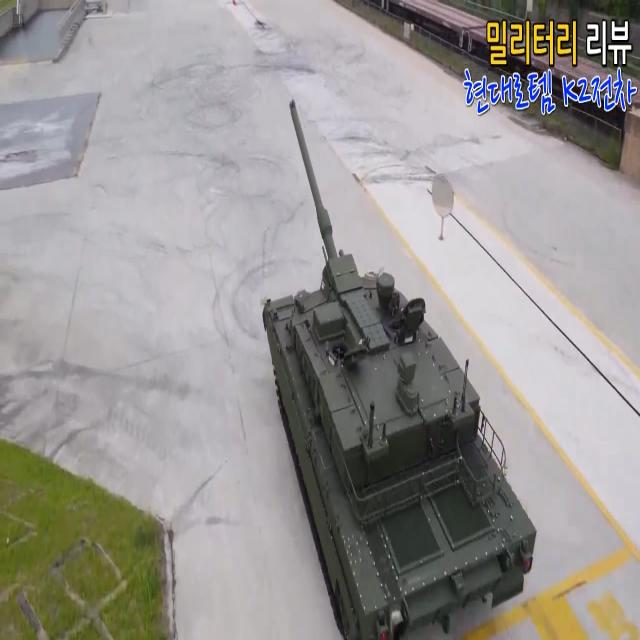korea tank: (263, 98, 537, 640)
